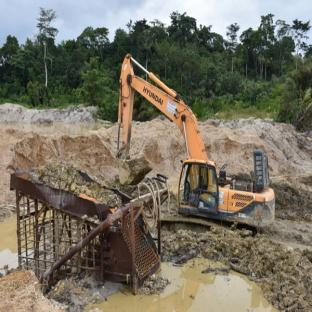ExcavationMachinery: (115, 40, 280, 236)
ProcessingEquipment: (9, 147, 166, 291)
